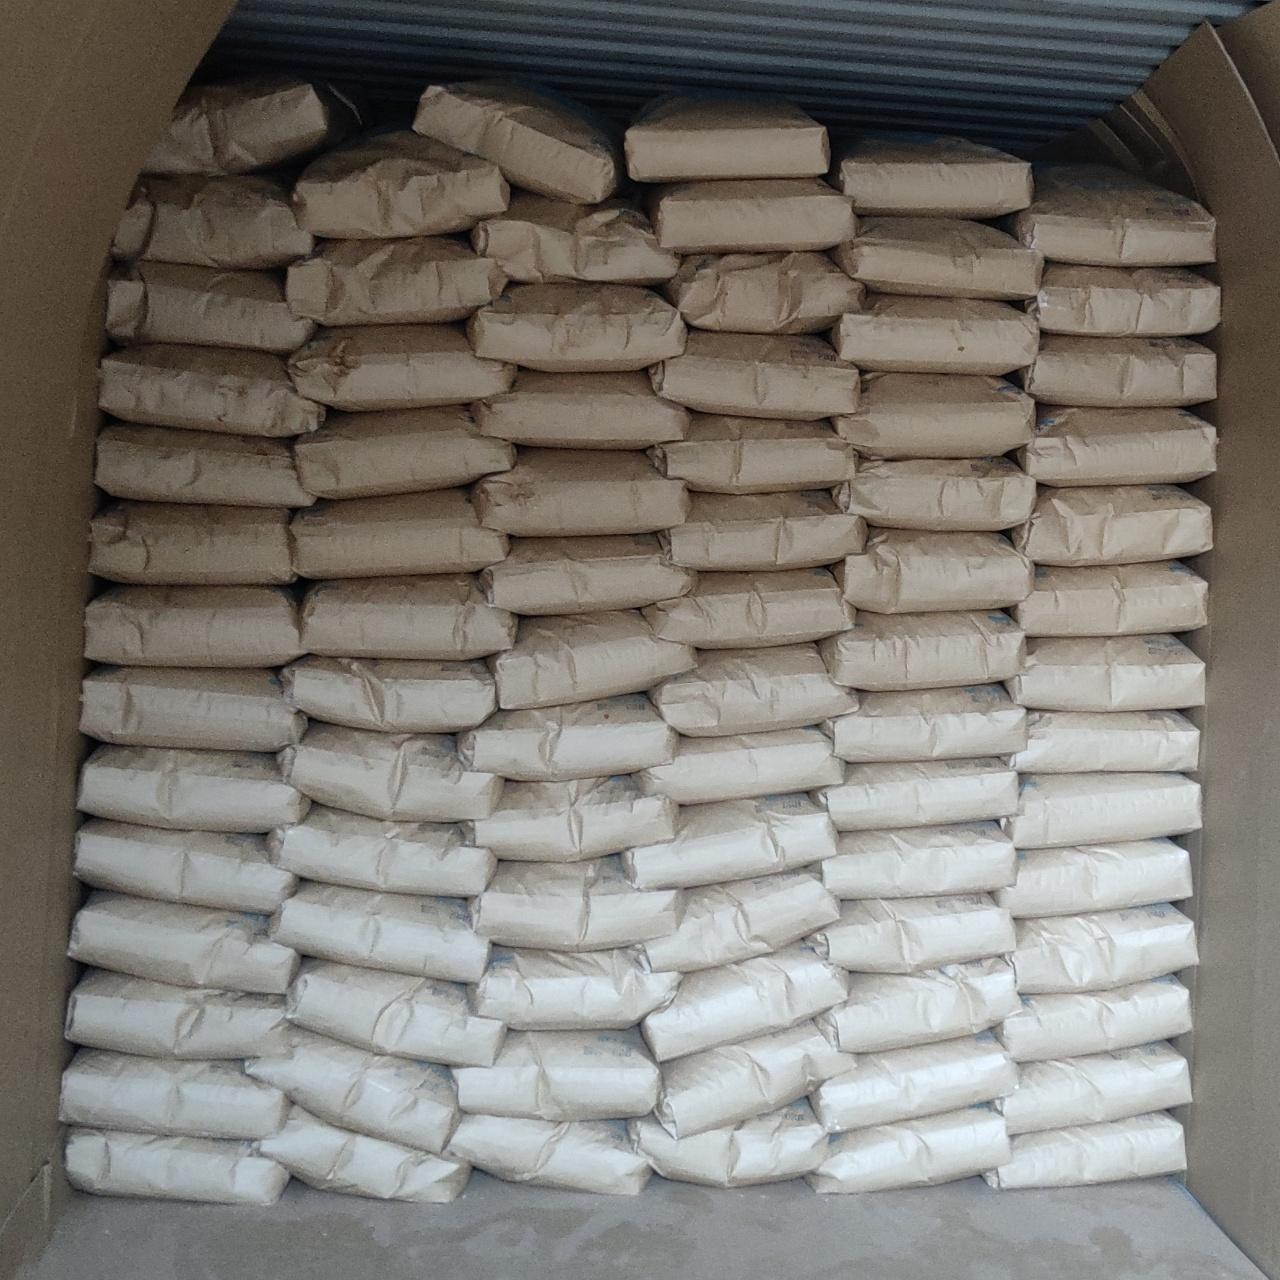sack: (246, 1026, 458, 1153), (413, 81, 622, 203), (642, 943, 848, 1060), (292, 130, 509, 239), (656, 1020, 856, 1138), (69, 892, 298, 995), (287, 959, 504, 1065), (277, 721, 502, 821), (271, 881, 488, 981), (1002, 165, 1215, 266), (146, 73, 361, 173), (67, 968, 299, 1059), (60, 1048, 289, 1139), (810, 1032, 1017, 1132), (258, 1105, 470, 1202), (268, 805, 496, 895), (488, 610, 695, 709), (642, 867, 839, 971), (99, 345, 324, 436), (76, 819, 292, 913), (295, 406, 515, 498), (622, 793, 837, 887), (77, 745, 307, 832), (289, 323, 515, 411), (471, 856, 682, 950), (467, 283, 686, 372), (286, 237, 507, 325), (291, 489, 508, 578), (471, 448, 689, 536), (111, 175, 314, 269), (650, 644, 857, 736), (81, 666, 305, 751), (819, 958, 1019, 1053), (452, 1028, 658, 1120), (107, 262, 315, 353), (458, 694, 678, 780), (650, 330, 859, 419), (472, 195, 677, 284), (95, 424, 314, 507), (301, 574, 516, 658), (995, 1042, 1190, 1134), (85, 586, 309, 666), (829, 217, 1042, 299), (810, 1106, 1010, 1193), (471, 369, 690, 448), (480, 535, 697, 614), (473, 775, 677, 859), (625, 98, 829, 182), (90, 501, 296, 584), (830, 293, 1039, 374), (630, 1102, 829, 1187), (643, 568, 854, 648), (65, 1129, 290, 1204), (474, 947, 682, 1028), (1010, 904, 1197, 994), (997, 976, 1191, 1062), (832, 374, 1034, 456), (828, 137, 1032, 218), (820, 610, 1023, 691), (445, 1114, 650, 1194), (648, 414, 855, 493), (663, 252, 864, 333), (804, 896, 1015, 973), (1010, 486, 1211, 566), (662, 491, 864, 570), (281, 658, 496, 732), (844, 528, 1032, 612), (822, 684, 1025, 761), (1016, 408, 1215, 486), (649, 179, 855, 254), (998, 839, 1192, 918), (1000, 773, 1200, 849), (984, 1112, 1186, 1187), (832, 457, 1035, 531), (822, 821, 1014, 899), (642, 729, 844, 803), (1004, 636, 1203, 711), (1012, 562, 1207, 636), (821, 758, 1018, 831), (1026, 263, 1219, 336), (1020, 336, 1216, 407), (1009, 712, 1199, 773)
